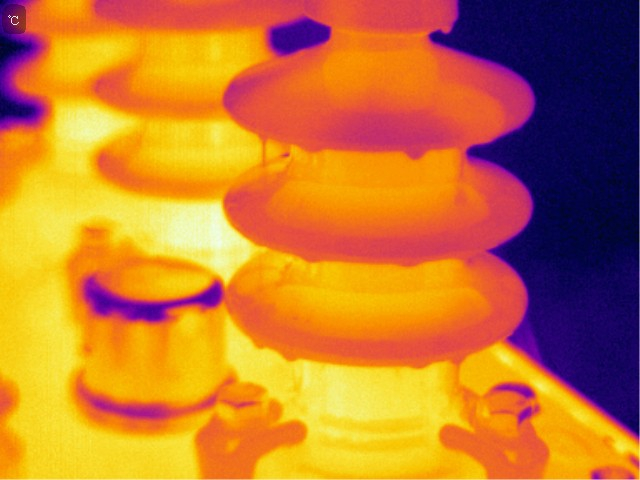Oil: (257, 122, 272, 177), (403, 143, 429, 162), (293, 140, 324, 155), (298, 250, 327, 265), (250, 331, 268, 353), (395, 255, 420, 270), (277, 348, 299, 364), (407, 357, 430, 371), (446, 353, 466, 368), (438, 21, 457, 35)
